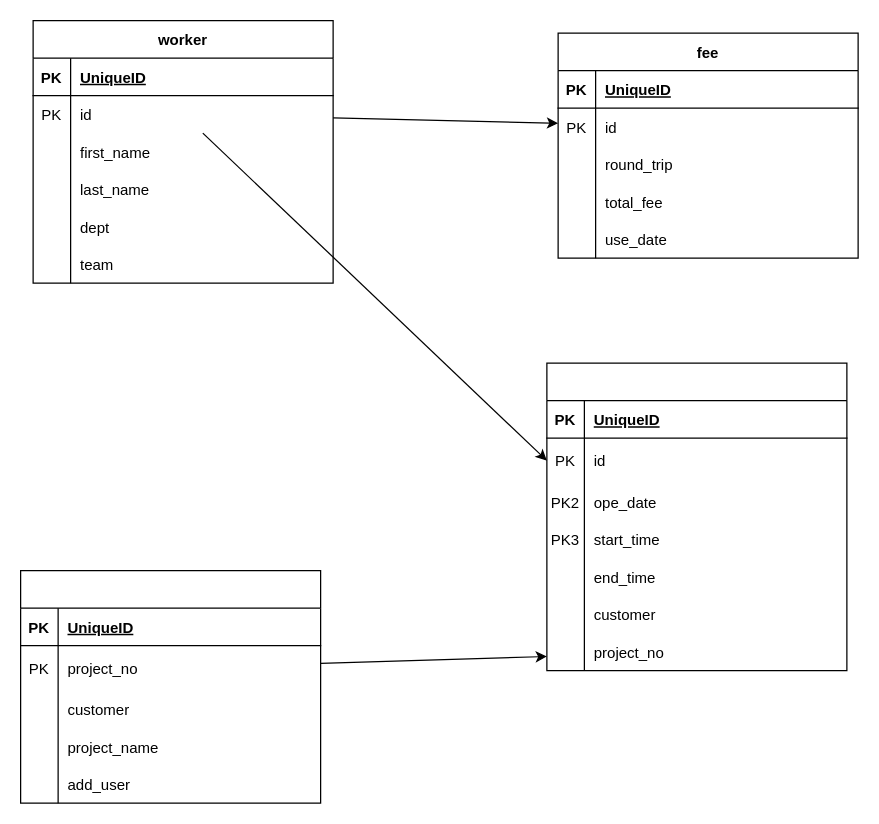
The diagram is 879 pixels wide and 824 high, and some of its shapes have lost their labels. The box of each missing label's shape, as (x1, y1, x2, y2) in pixels:
man_hour: (546, 362, 847, 671)
project_cd: (19, 569, 321, 803)
